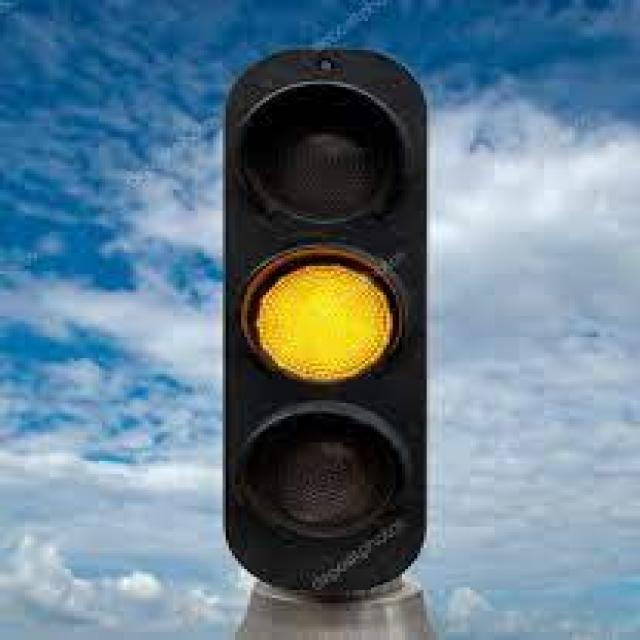yellow light: (247, 59, 422, 560)
